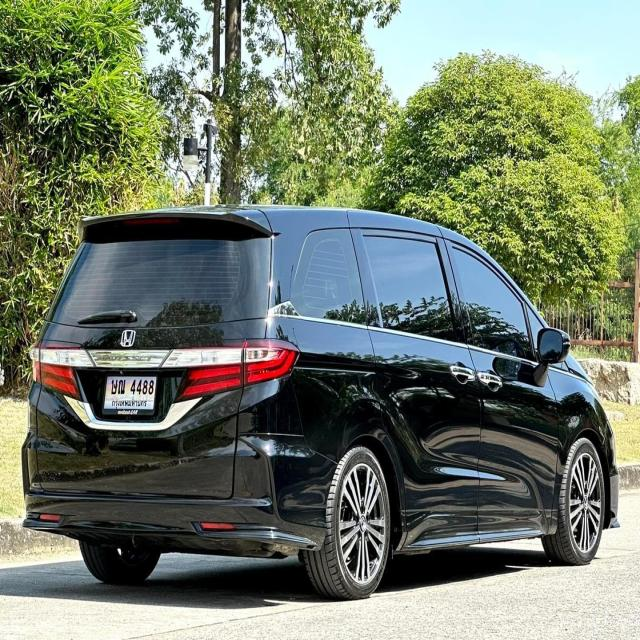license_plate: (101, 372, 159, 415)
